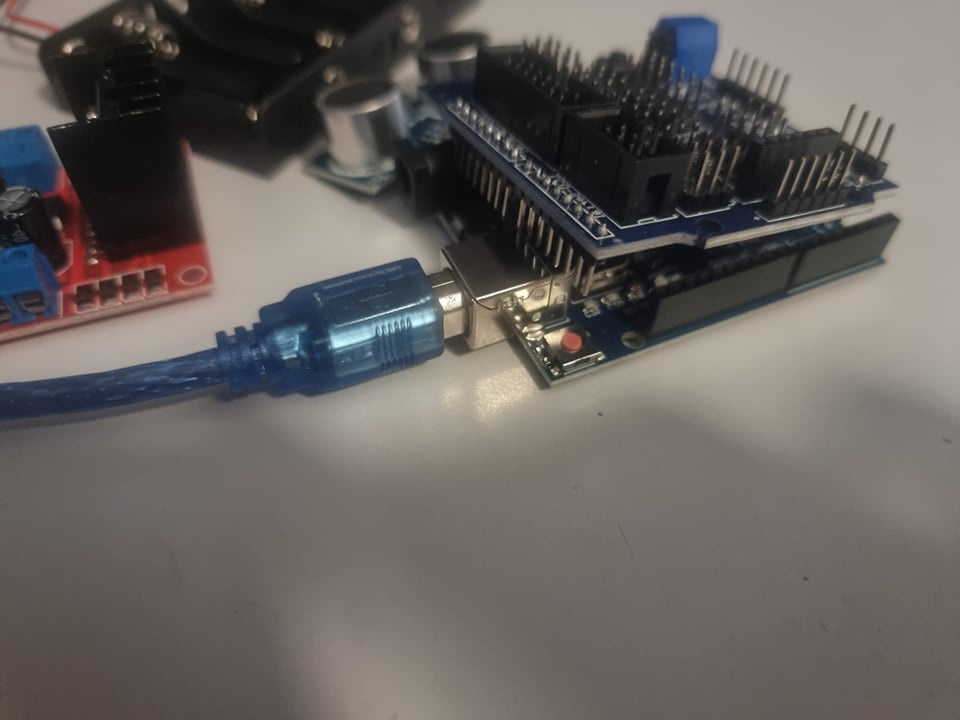5V EXPANSION: (453, 16, 899, 220)
BATTERY BOX: (73, 1, 407, 174)
MOTOR: (0, 40, 219, 329)
SENSOR: (309, 35, 448, 218)
UNO R3: (435, 216, 877, 391)
